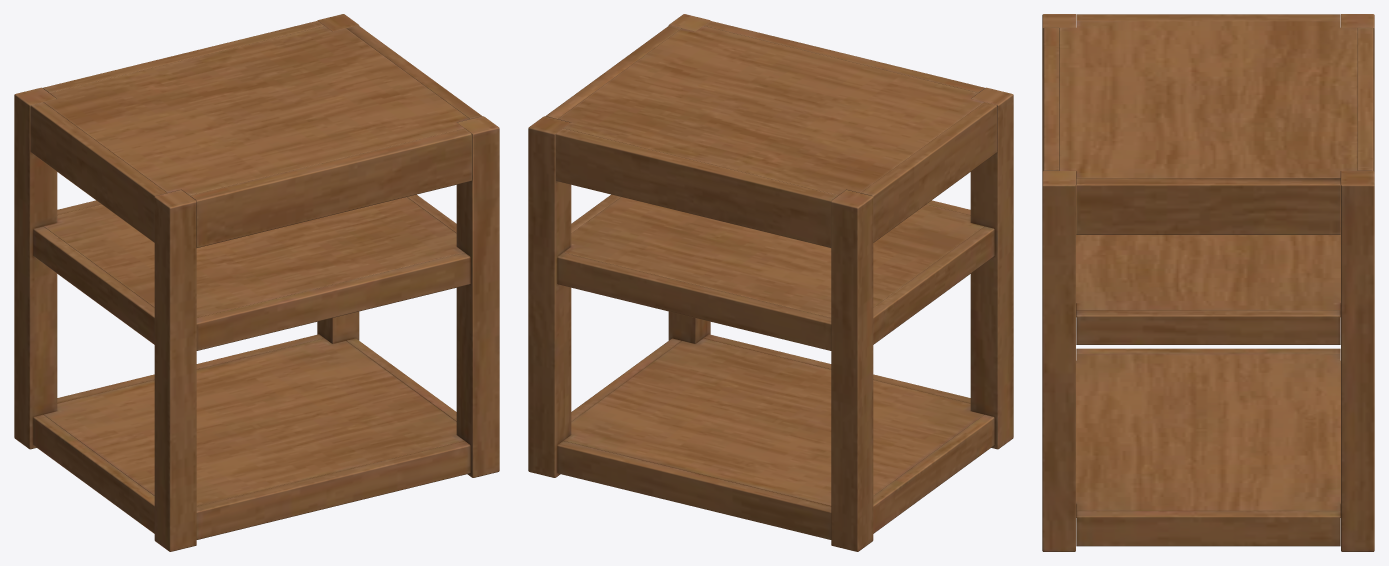
The model's file is side-table.glb.
The picture shows the model from 3 angles, left to right: view 1: azimuth 30°, elevation 25°; view 2: azimuth 150°, elevation 25°; view 3: azimuth 270°, elevation 25°; orthographic projection. The views are drawn at different scales.
Parts seen in each view (by area): view 1: side_table_01; view 2: side_table_01; view 3: side_table_01.
Boxes of the visible parts, x1=… form: side_table_01: x1=14, y1=14, x2=499, y2=551; side_table_01: x1=528, y1=14, x2=1013, y2=551; side_table_01: x1=1042, y1=14, x2=1374, y2=551.
Size of the model in its own units: 0.55 by 0.55 by 0.45.
Materials: 1 (1 with a texture image).
